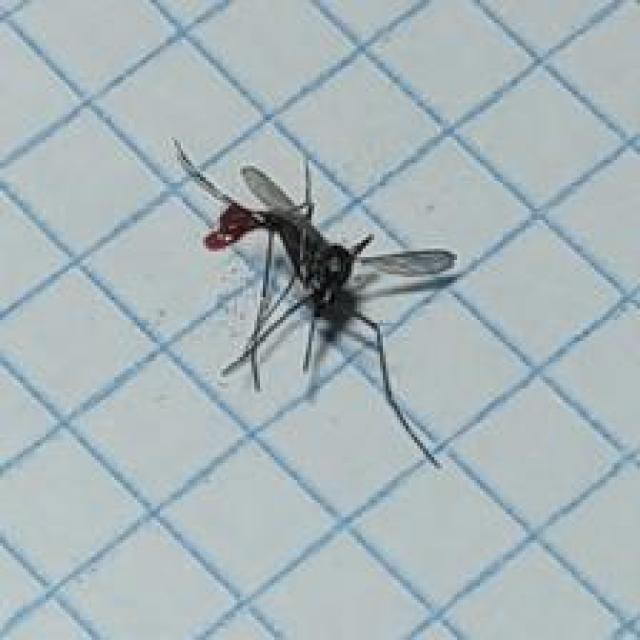Aedes albopictus: (170, 136, 459, 470)
